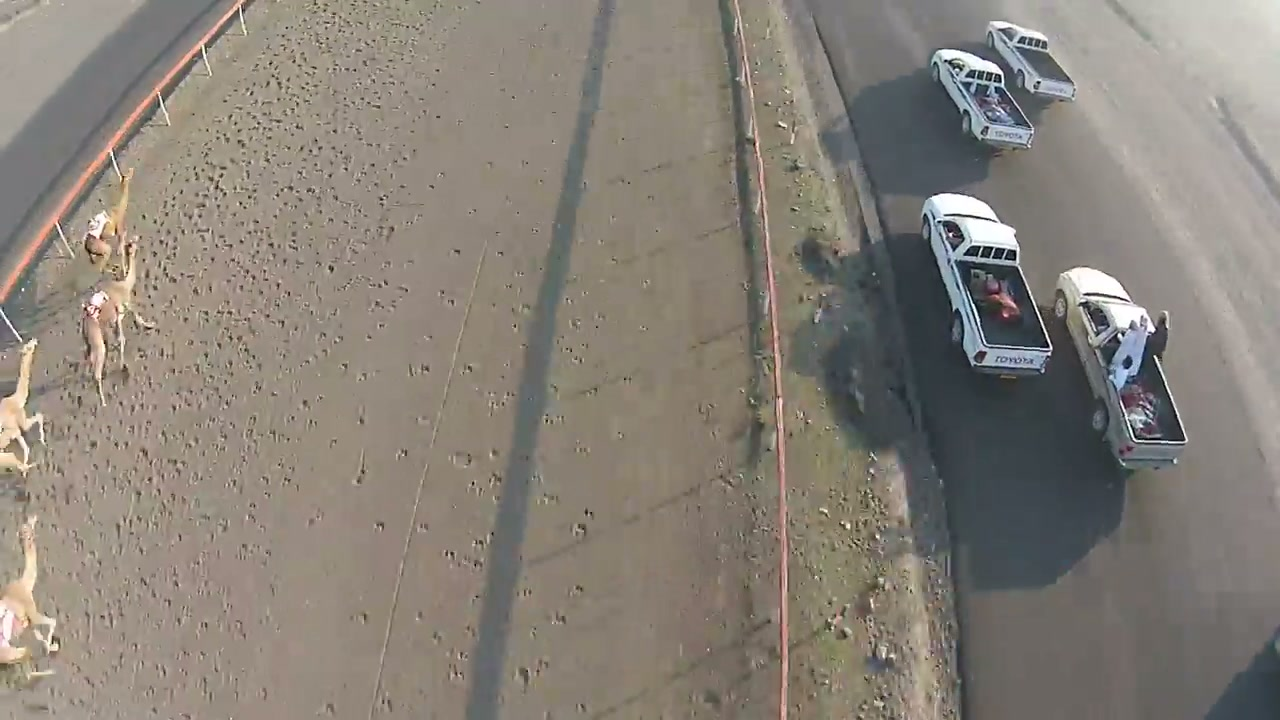animal_footprint: (6, 49, 357, 668)
